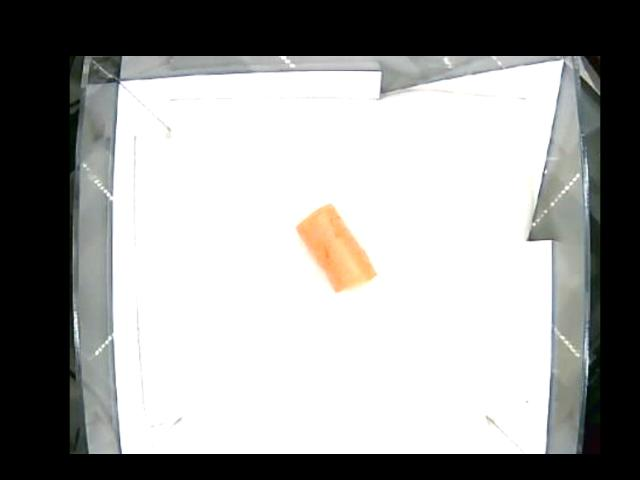Carrot: (295, 202, 377, 293)
